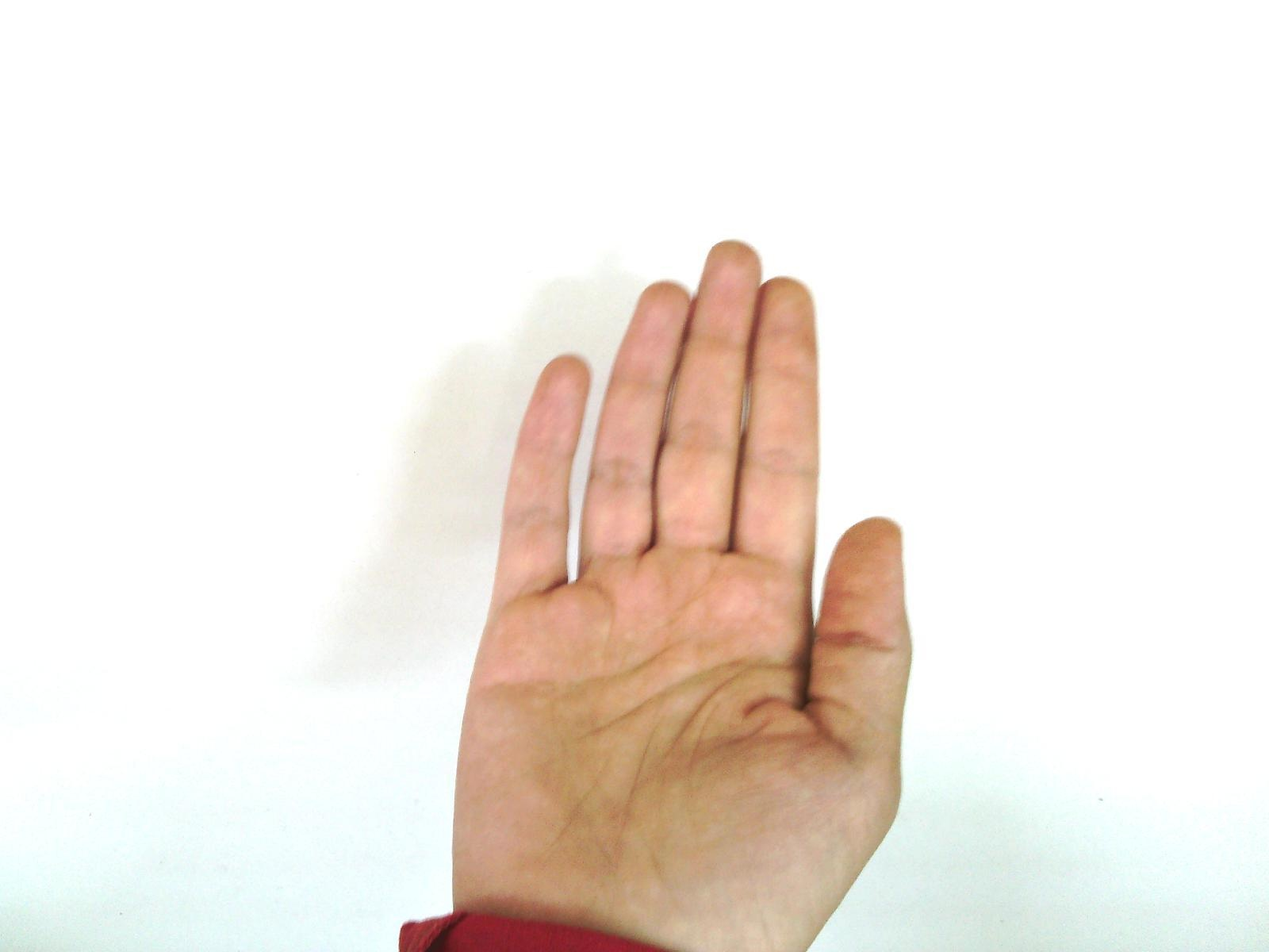open_palm: (443, 240, 916, 950)
